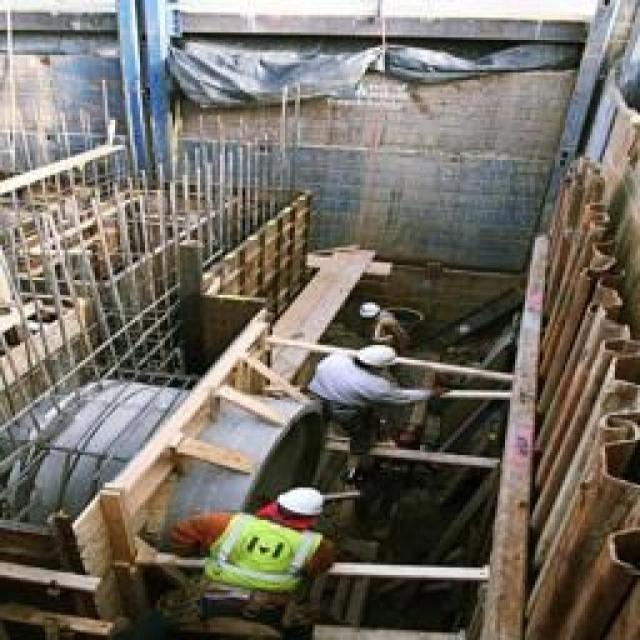Helmet: (315, 343, 373, 438), (274, 468, 338, 537), (335, 337, 409, 381), (375, 304, 423, 354), (360, 290, 378, 330)
Safety Vest: (210, 497, 320, 640)
